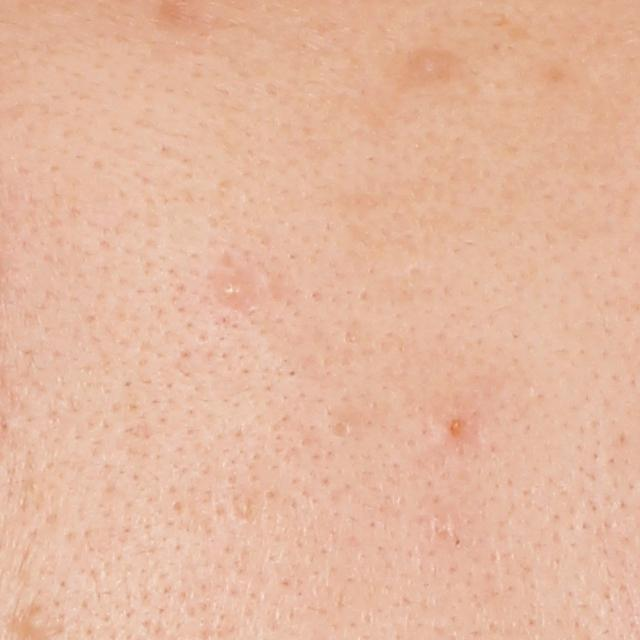comedo: (209, 267, 257, 320), (331, 409, 362, 438)
